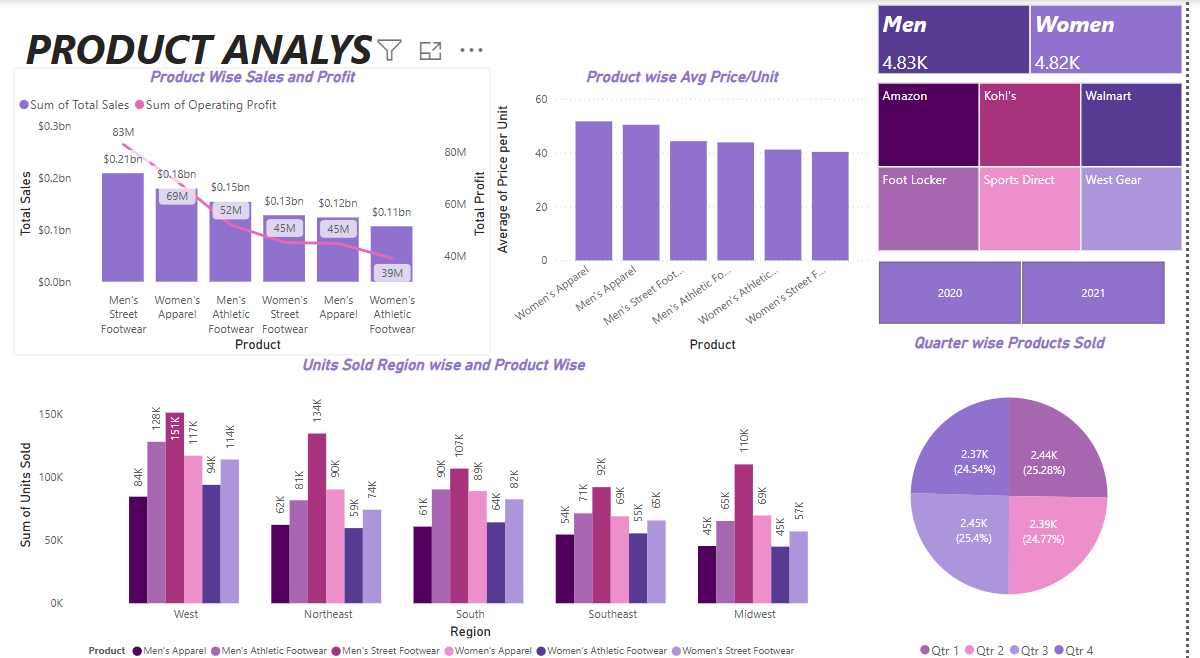

The dashboard page shown, as its layout file describes it:
{"tool":"powerbi","page":{"name":"Product Analysis","canvas":[1280,720],"ordinal":2},"visuals":[{"type":"treemap","fields":{"Group":["Table 1 (Data Sales Adidas).Product Gender"],"Values":["CountNonNull(Table 1 (Data Sales Adidas).Product Gender)"]},"box":[969.5,64.3,309.9,86.9],"z":0},{"type":"treemap","fields":{"Values":["Count(Table 1 (Data Sales Adidas).Retailer)"],"Details":["Table 1 (Data Sales Adidas).Retailer"]},"box":[969.5,151.2,309.9,192.8],"z":1000},{"type":"slicer","fields":{"Values":["Table 1 (Data Sales Adidas).Invoice Date.Variation.Date Hierarchy.Year"]},"box":[969.5,343.9,309.9,92.6],"z":2000},{"type":"card","title":"Total Units Sold","fields":{"Values":["Sum(Table 1 (Data Sales Adidas).Units Sold)"]},"box":[412,64.3,258.9,105.8],"z":3000},{"type":"card","title":"Unique Product Count","fields":{"Values":["Count(Table 1 (Data Sales Adidas).Product)"]},"box":[670.9,64.3,298.6,105.8],"z":4000},{"type":"textbox","box":[0,64.3,412,73.7],"z":5000},{"type":"pieChart","title":"Quarter wise Units Sold","fields":{"Category":["Table 1 (Data Sales Adidas).Invoice Date.Variation.Date Hierarchy.Quarter"],"Y":["CountNonNull(Table 1 (Data Sales Adidas).Product)"]},"box":[0,449.8,412,270.2],"z":6000},{"type":"clusteredColumnChart","title":"Product wise Avg Price/Unit","fields":{"Category":["Table 1 (Data Sales Adidas).Product"],"Y":["Avg(Table 1 (Data Sales Adidas).Price per Unit)"]},"box":[497,192.8,427.1,243.8],"z":7000},{"type":"lineStackedColumnComboChart","title":"Product wise Sales & Profit","fields":{"Category":["Table 1 (Data Sales Adidas).Product"],"Y":["Sum(Table 1 (Data Sales Adidas).Total Sales)"],"Y2":["Sum(Table 1 (Data Sales Adidas).Operating Profit)"]},"box":[0,209.8,497,226.8],"z":8000},{"type":"clusteredColumnChart","title":"Region and Product wise Units Sold","fields":{"Y":["Sum(Table 1 (Data Sales Adidas).Units Sold)"],"Category":["Table 1 (Data Sales Adidas).Region"],"Series":["Table 1 (Data Sales Adidas).Product"]},"box":[412,436.5,867.4,283.5],"z":9000},{"type":"slicer","fields":{"Values":["Table 1 (Data Sales Adidas).State"]},"box":[0,138,204.1,54.8],"z":10000},{"type":"slicer","fields":{"Values":["Table 1 (Data Sales Adidas).Invoice Date.Variation.Date Hierarchy.Year","Table 1 (Data Sales Adidas).Invoice Date.Variation.Date Hierarchy.Month","Table 1 (Data Sales Adidas).Invoice Date.Variation.Date Hierarchy.Day"]},"box":[204.1,138,240,54.8],"z":11000}]}

Visuals, with their boxes in screenshot pixels (x1, y1, x2, y2), scaled from the page's 1280x720 canvas onto the 1200x658 screenshot:
treemap - Table 1 (Data Sales Adidas).Product Gender x CountNonNull(Table 1 (Data Sales Adidas).Product Gender): detection(909, 59, 1199, 138)
treemap - Count(Table 1 (Data Sales Adidas).Retailer) x Table 1 (Data Sales Adidas).Retailer: detection(909, 138, 1199, 314)
slicer - Table 1 (Data Sales Adidas).Invoice Date.Variation.Date Hierarchy.Year: detection(909, 314, 1199, 399)
"Total Units Sold" card: detection(386, 59, 629, 155)
"Unique Product Count" card: detection(629, 59, 909, 155)
textbox: detection(0, 59, 386, 126)
"Quarter wise Units Sold" pieChart: detection(0, 411, 386, 657)
"Product wise Avg Price/Unit" clusteredColumnChart: detection(466, 176, 866, 399)
"Product wise Sales & Profit" lineStackedColumnComboChart: detection(0, 192, 466, 399)
"Region and Product wise Units Sold" clusteredColumnChart: detection(386, 399, 1199, 657)
slicer - Table 1 (Data Sales Adidas).State: detection(0, 126, 191, 176)
slicer - Table 1 (Data Sales Adidas).Invoice Date.Variation.Date Hierarchy.Year x Table 1 (Data Sales Adidas).Invoice Date.Variation.Date Hierarchy.Month: detection(191, 126, 416, 176)
